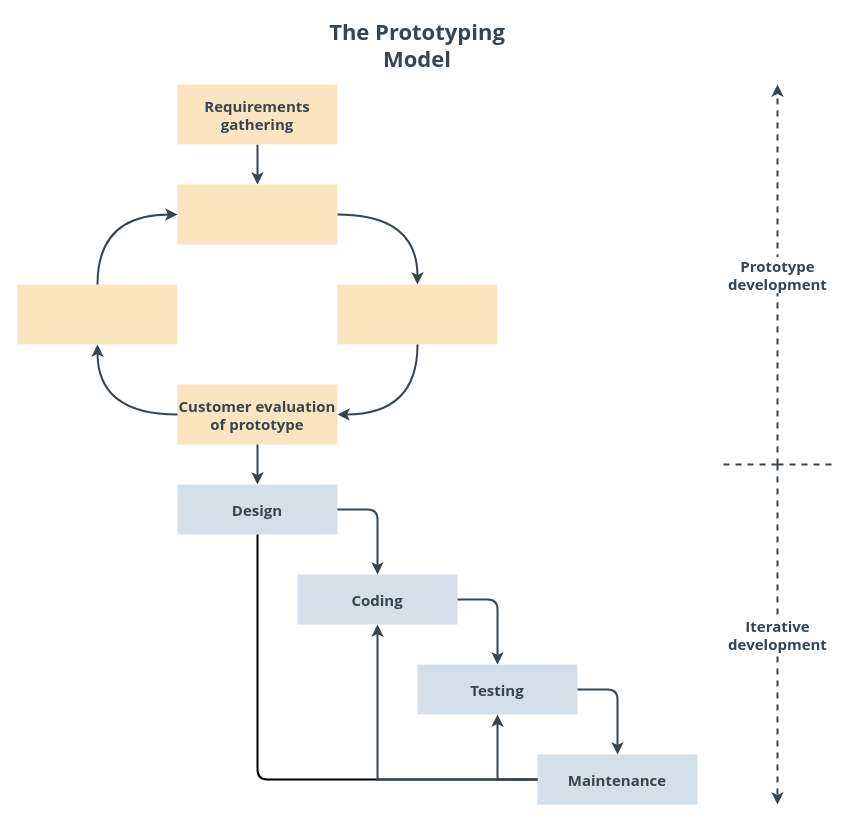
Some shapes in this 856 by 831 pixel diagram are drawn without their labels. The shapes that lost their labels are listed below. From the top down, each one's centre as x and y in pixels, then its label:
[257,214]: Quick design
[97,314]: Refine requirements incorporating customer suggestions
[417,314]: Build prototype
